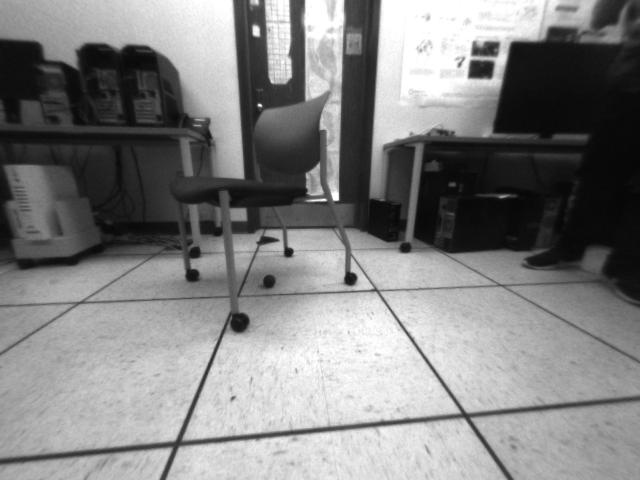dogtoy: (255, 268, 283, 292)
